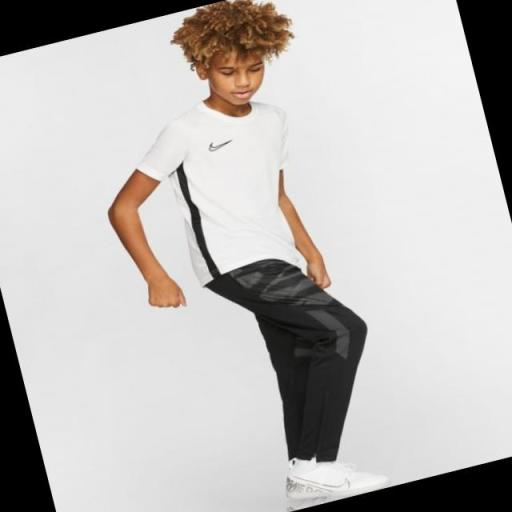Nike: (203, 132, 238, 154)
